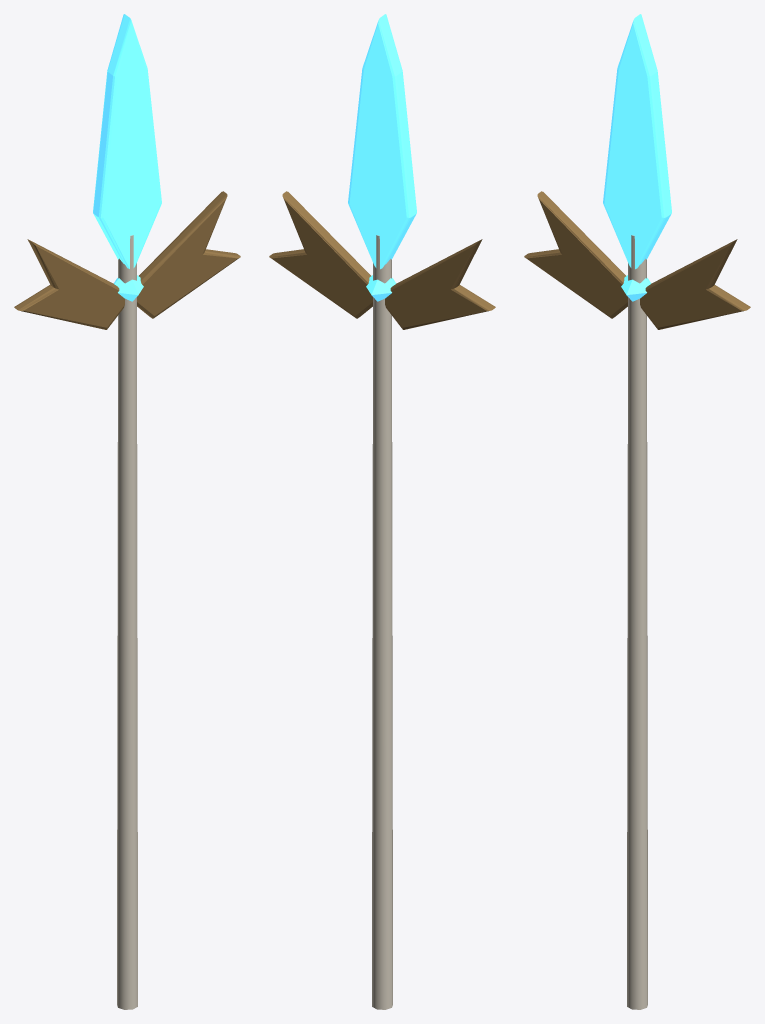
File: spear_f3_f8d93f2e.glb
3 renders of one model, left to right at view 1: azimuth 30°, elevation 25°; view 2: azimuth 150°, elevation 25°; view 3: azimuth 330°, elevation 25°, orthographic.
Visible parts, largest first — view 1: m0_ow80_, m1_gm130_, m3_ow80_; view 2: m0_ow80_, m1_gm130_, m3_ow80_; view 3: m0_ow80_, m1_gm130_, m3_ow80_.
Part boxes in pixels (<box>): m0_ow80_: <box>117,235,137,1009</box>; m1_gm130_: <box>93,14,161,268</box>; m3_ow80_: <box>14,191,240,329</box>; m0_ow80_: <box>372,235,392,1009</box>; m1_gm130_: <box>348,14,416,269</box>; m3_ow80_: <box>269,191,495,329</box>; m0_ow80_: <box>627,235,647,1009</box>; m1_gm130_: <box>603,14,671,269</box>; m3_ow80_: <box>524,191,750,329</box>.
Size of the model in its own units: 0.9339 by 3.97 by 0.16.
